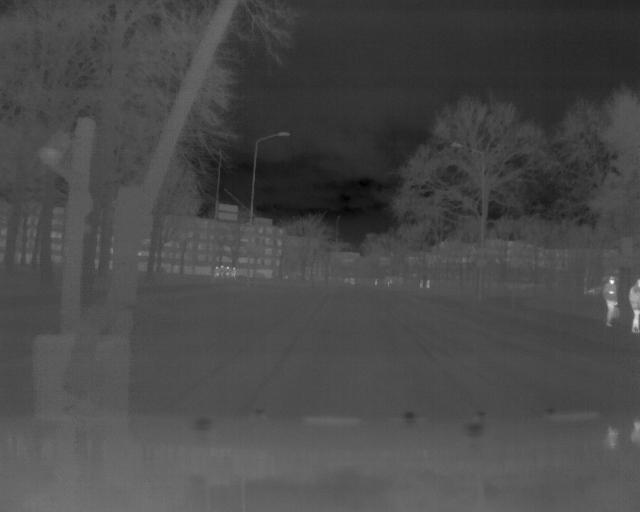person: (601, 274, 621, 327), (628, 275, 640, 337)
